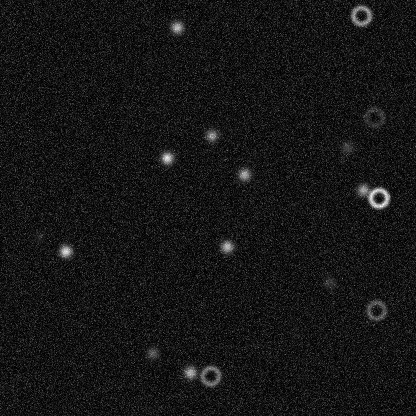Ring: (349, 3, 373, 27), (198, 363, 222, 387), (366, 185, 390, 209), (362, 105, 386, 129), (364, 298, 388, 322)
Spot: (218, 238, 234, 254), (158, 149, 174, 165), (57, 243, 73, 259), (355, 181, 371, 197), (31, 228, 47, 244), (168, 19, 184, 35), (236, 166, 252, 182), (321, 274, 337, 290), (144, 344, 160, 360), (182, 364, 198, 380), (203, 127, 219, 143), (339, 139, 355, 155)
